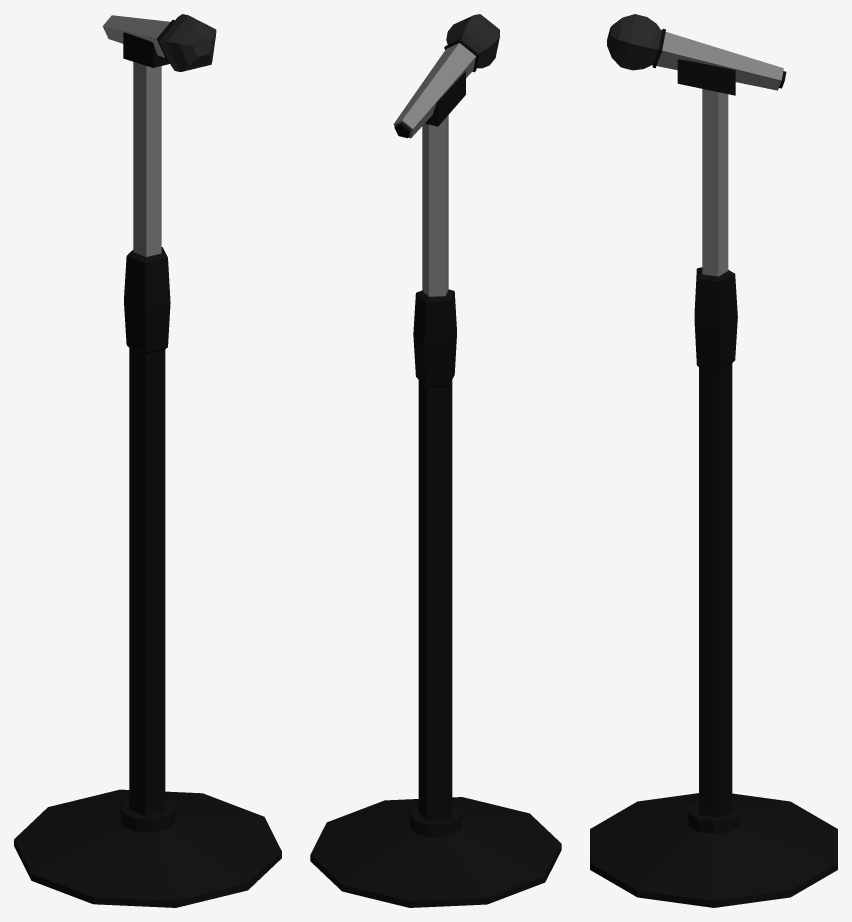
Rendered from Int_MicrophoneStand01.fbx.
The picture shows the model from 3 angles, left to right: view 1: azimuth 30°, elevation 25°; view 2: azimuth 150°, elevation 25°; view 3: azimuth 270°, elevation 25°; orthographic projection. The views are drawn at different scales.
Visible parts, largest first — view 1: Int_MicrophoneStand01, Int_Microphone01; view 2: Int_MicrophoneStand01, Int_Microphone01; view 3: Int_MicrophoneStand01, Int_Microphone01.
Boxes of the visible parts, x1,y1,x2,y2 form: Int_MicrophoneStand01: [14, 32, 281, 907]; Int_Microphone01: [102, 14, 216, 71]; Int_MicrophoneStand01: [310, 71, 561, 907]; Int_Microphone01: [393, 14, 499, 138]; Int_MicrophoneStand01: [590, 59, 837, 907]; Int_Microphone01: [607, 14, 786, 90].
Size of what is drawn, in the model's own units: 41.78 by 39.73 by 148.
